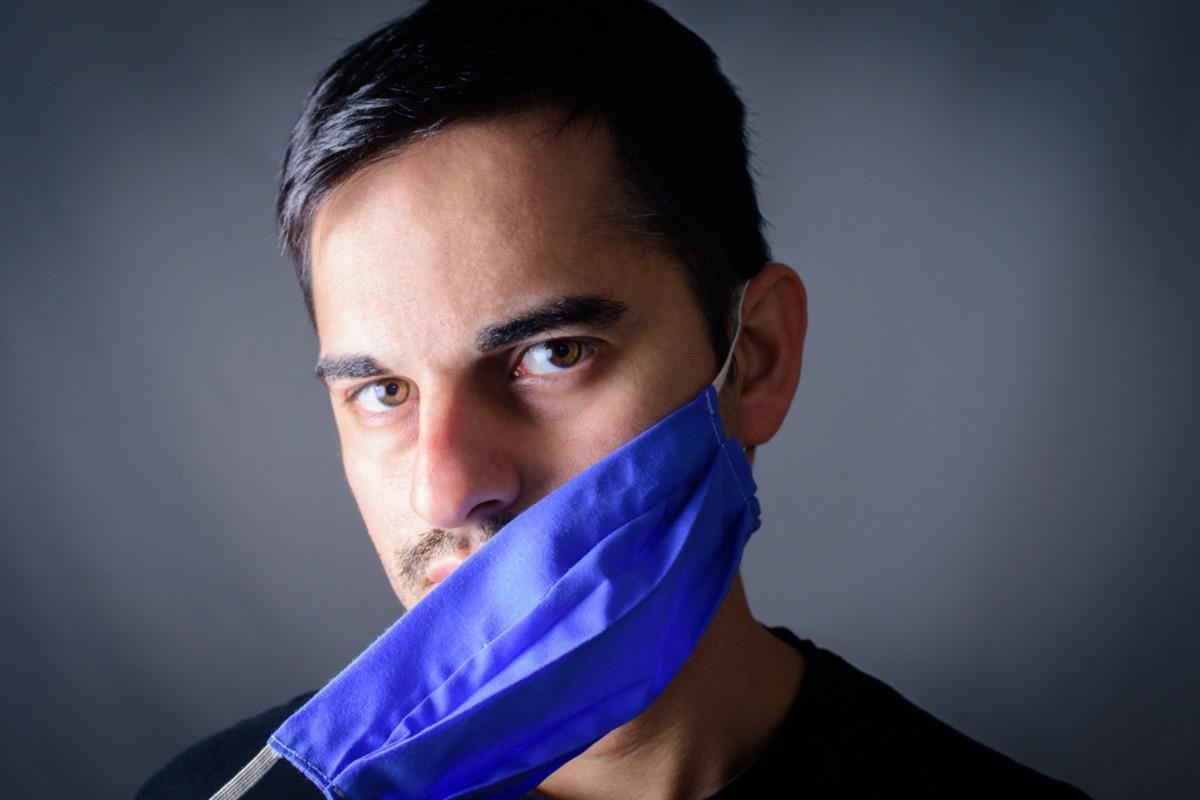mask_weared_incorrect: (300, 269, 740, 583)
